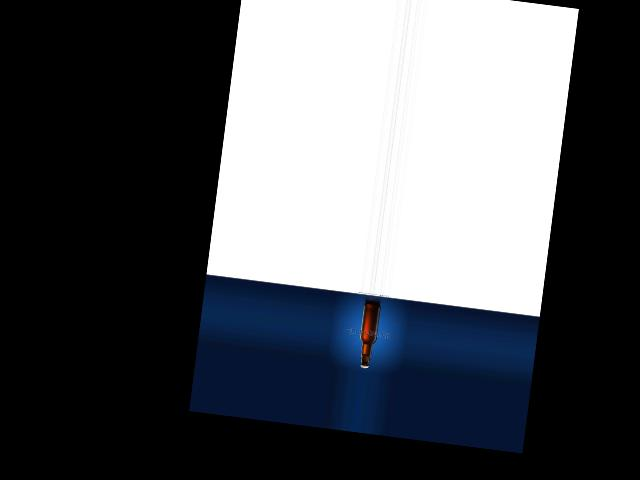beer: (356, 302, 381, 369)
